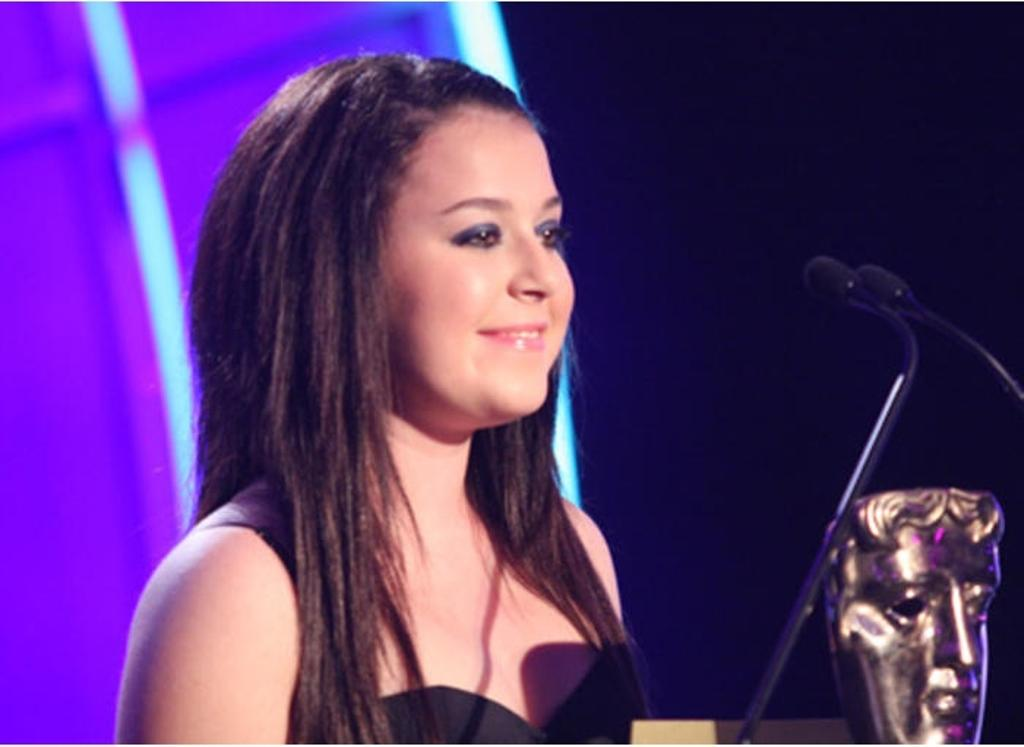face: (370, 100, 574, 418)
